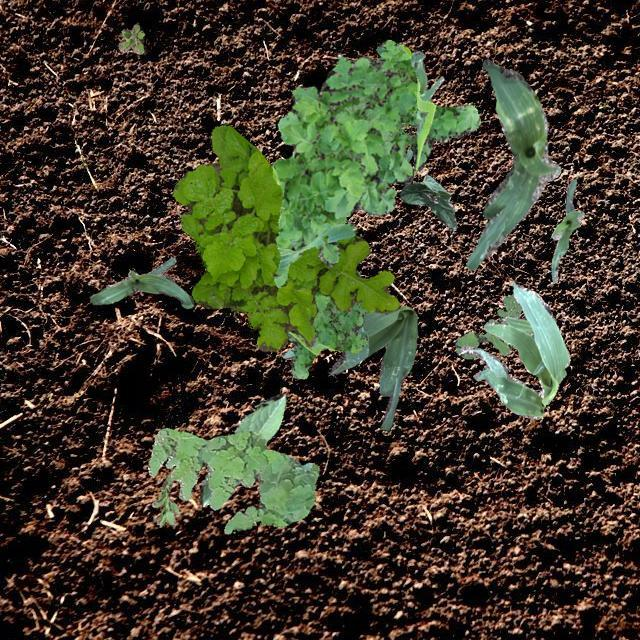crop: (466, 58, 560, 268), (282, 304, 416, 428), (458, 280, 570, 418), (198, 392, 286, 506), (404, 50, 462, 162), (89, 255, 192, 308), (550, 178, 584, 282), (398, 173, 456, 230)
weed: (172, 122, 398, 350), (272, 38, 479, 286), (146, 426, 318, 534), (286, 290, 366, 378), (454, 294, 522, 358), (150, 474, 178, 526), (118, 22, 144, 54)
